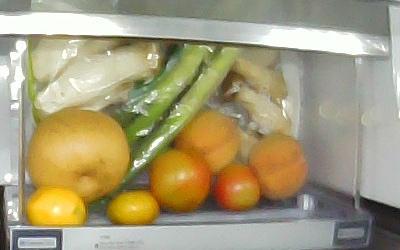peach: (175, 111, 241, 171), (247, 134, 308, 198)
pear: (26, 110, 129, 199)
tangerine: (25, 187, 86, 228), (108, 190, 161, 227)
tomato: (150, 150, 210, 211), (216, 164, 261, 211)
